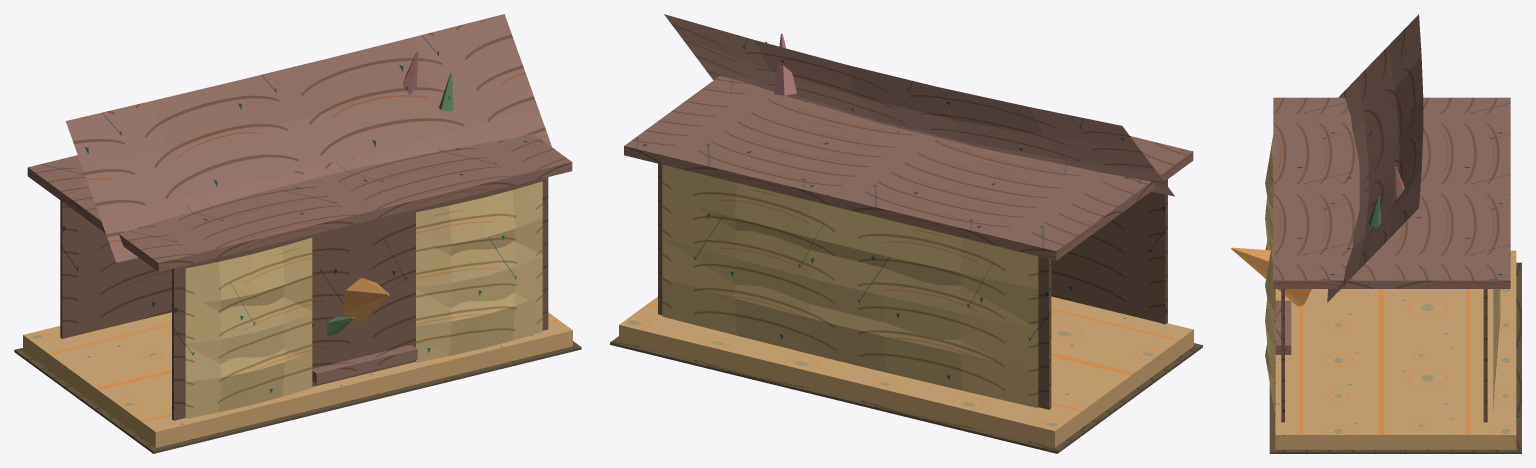
The model's file is env_shelter_distant_a.glb.
3 views of the same model, side by side, from view 1: azimuth 30°, elevation 25°; view 2: azimuth 150°, elevation 25°; view 3: azimuth 270°, elevation 25° (orthographic). The views are drawn at different scales.
Parts seen in each view (by area): view 1: lod0__shelter_shell, lod0__shelter_clay, lod1__shelter_shell; view 2: lod0__shelter_shell, lod0__shelter_clay, lod1__shelter_shell; view 3: lod0__shelter_shell, lod0__shelter_clay, lod1__shelter_shell.
Boxes of the visible parts, <box> form: lod0__shelter_shell: <box>14,14,581,453</box>; lod0__shelter_clay: <box>23,51,572,447</box>; lod1__shelter_shell: <box>185,181,542,418</box>; lod0__shelter_shell: <box>610,14,1202,453</box>; lod0__shelter_clay: <box>619,33,1193,447</box>; lod1__shelter_shell: <box>662,165,1038,403</box>; lod0__shelter_shell: <box>1265,14,1521,453</box>; lod0__shelter_clay: <box>1231,167,1516,449</box>; lod1__shelter_shell: <box>1265,135,1499,415</box>.
Bounding box in the file's own units: 6.1 × 3.64 × 3.86.
Materials: 2 (2 with a texture image).
